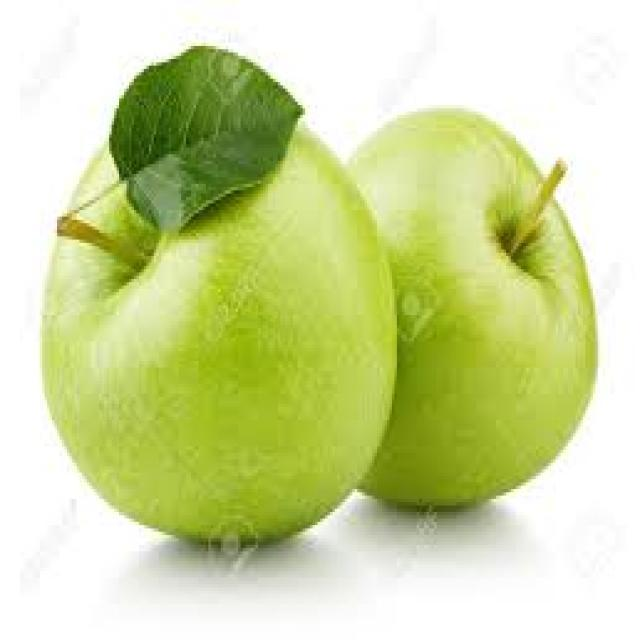apple: (42, 119, 396, 541), (348, 109, 596, 508)
